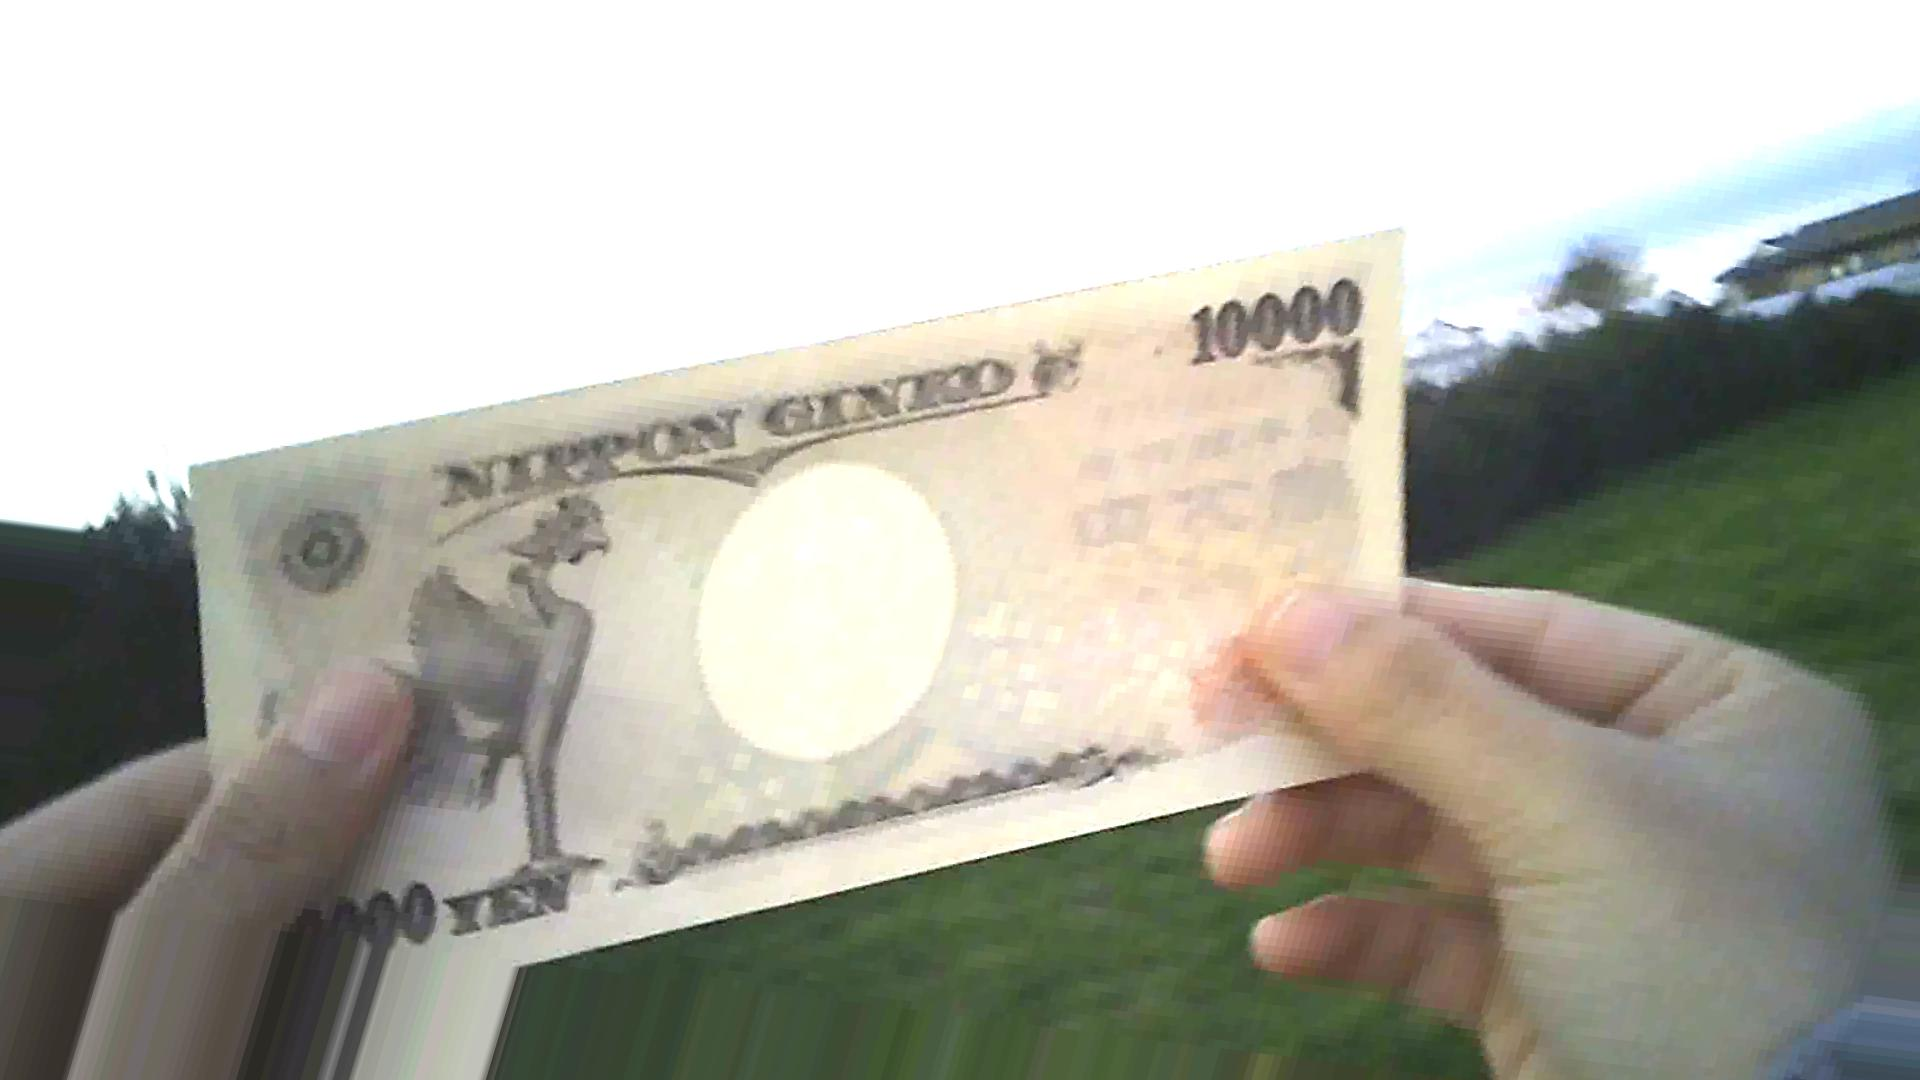10,000 Yen: (181, 243, 1414, 978)
